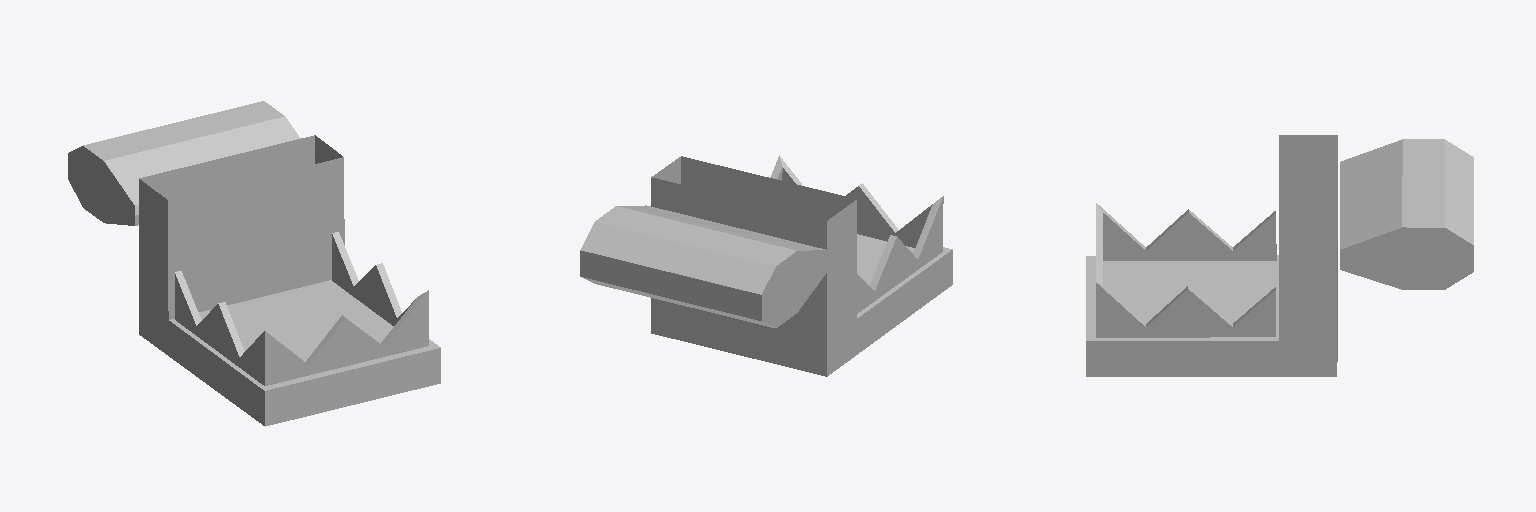
File: masterM.obj
3 renders of one model, left to right at view 1: azimuth 30°, elevation 25°; view 2: azimuth 150°, elevation 25°; view 3: azimuth 270°, elevation 25°, orthographic.
Parts seen in each view (by area): view 1: polySurface2; view 2: polySurface2; view 3: polySurface2.
Part boxes in pixels (x1,y1,x2,y2): polySurface2: (68, 101, 440, 426); polySurface2: (580, 155, 952, 376); polySurface2: (1086, 135, 1473, 376).
Bounding box in the file's own units: 0.6694 × 0.552 × 1.24.